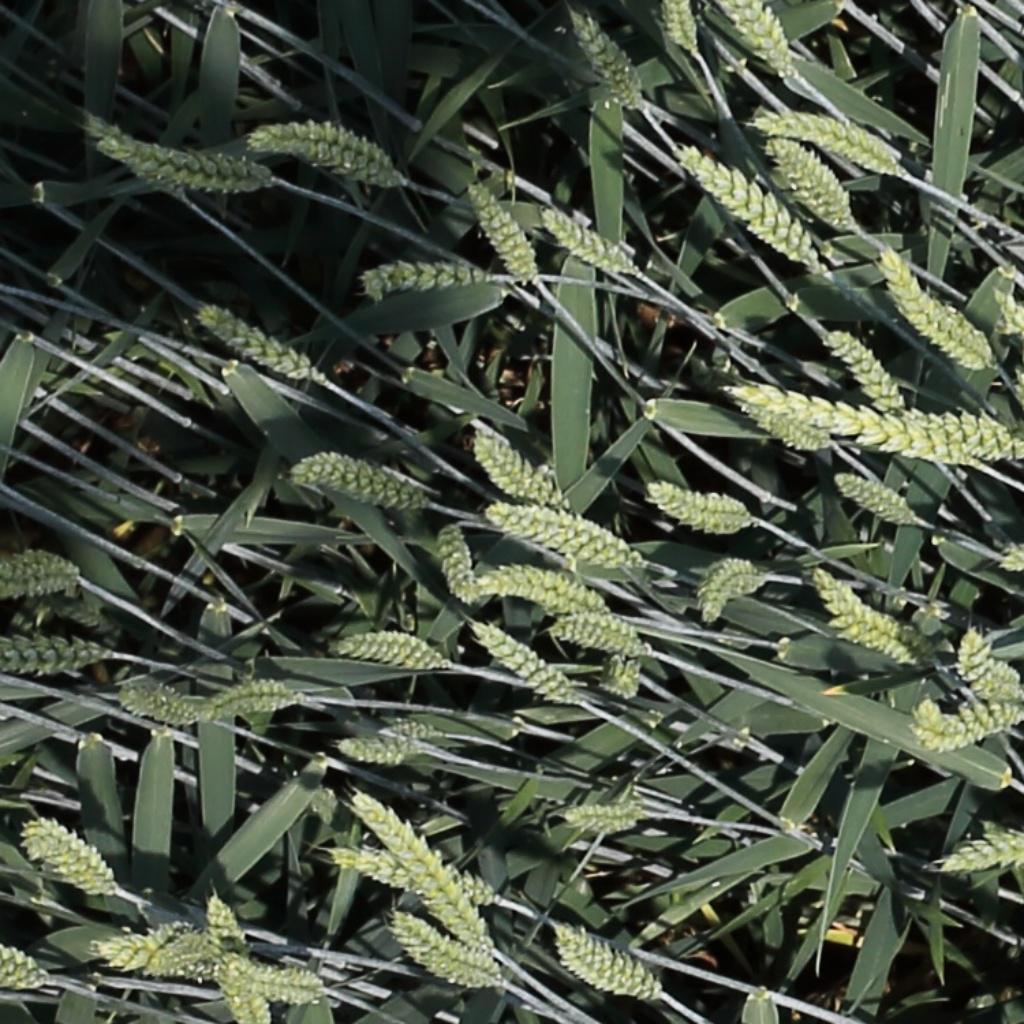0-0: (721, 372, 1024, 468), (345, 786, 500, 958), (876, 236, 1001, 377), (682, 150, 817, 262), (96, 125, 284, 197), (238, 114, 412, 186), (326, 844, 504, 906), (196, 304, 326, 387), (81, 107, 188, 204), (486, 505, 637, 569), (386, 911, 507, 990), (460, 172, 544, 284), (469, 622, 576, 707), (468, 562, 618, 620), (21, 819, 122, 902), (565, 8, 644, 114), (821, 323, 907, 417), (472, 434, 572, 513), (757, 113, 903, 166), (767, 132, 851, 223), (555, 927, 658, 1000), (910, 694, 1024, 757), (293, 454, 423, 509), (808, 567, 902, 643), (644, 475, 760, 535), (537, 206, 633, 275), (720, 0, 797, 83), (730, 391, 830, 449), (356, 257, 490, 300), (143, 925, 239, 981), (203, 674, 309, 724), (541, 612, 656, 658), (927, 822, 1024, 875), (333, 630, 451, 673), (0, 632, 112, 677), (697, 556, 771, 621), (957, 629, 1024, 700), (828, 614, 916, 666), (212, 951, 273, 1024), (832, 473, 916, 525), (113, 681, 204, 728), (0, 549, 85, 599), (201, 889, 254, 958), (237, 966, 331, 1004), (434, 518, 476, 603), (89, 929, 167, 972), (562, 797, 649, 835), (335, 734, 421, 768), (591, 653, 647, 699), (1, 942, 47, 989), (664, 0, 700, 58), (376, 719, 445, 745), (996, 283, 1024, 345), (1001, 544, 1024, 573)
